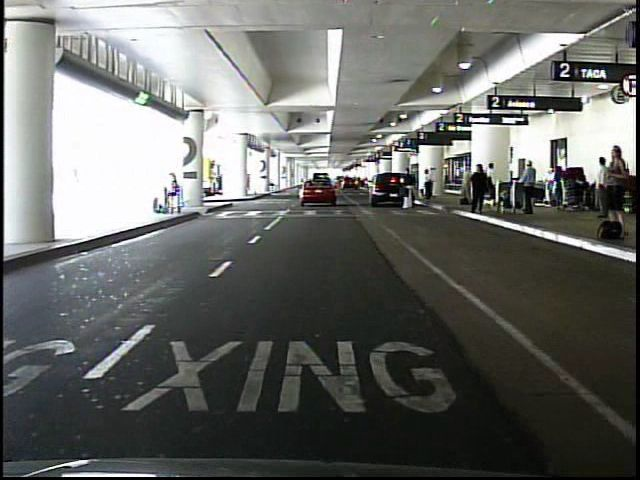person: (603, 145, 628, 222), (594, 157, 610, 218), (521, 159, 538, 216), (469, 160, 487, 213), (164, 172, 184, 218), (542, 167, 557, 205), (403, 168, 415, 213), (484, 162, 495, 203), (424, 168, 435, 202)
